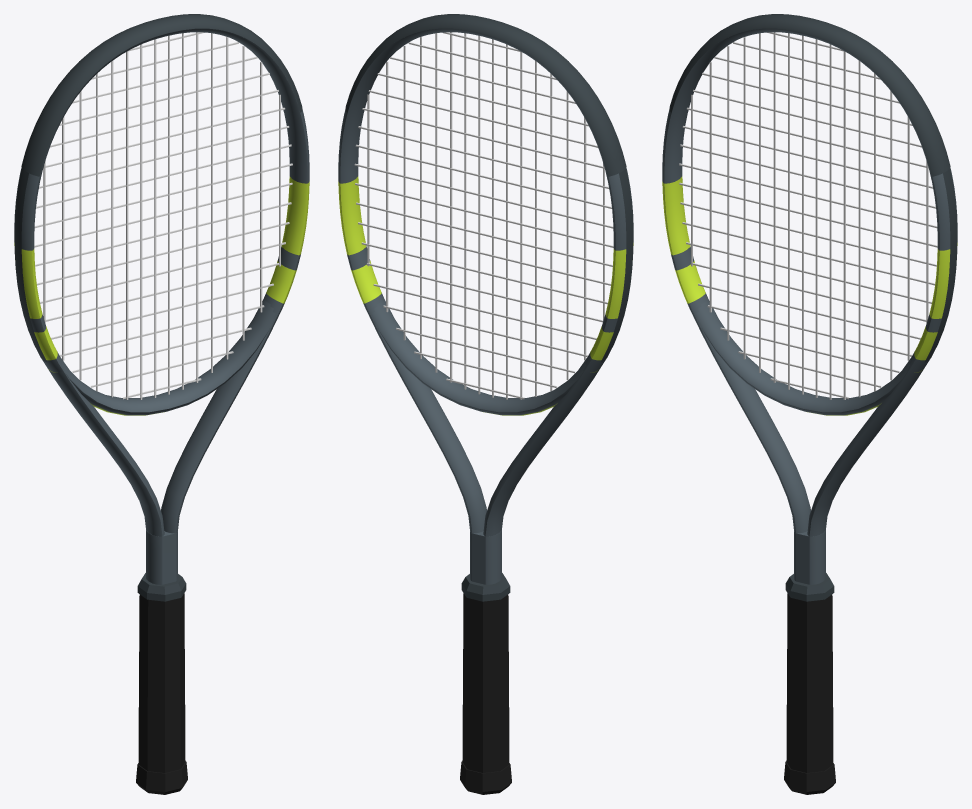
Rendered from babolat-pure-aero-super-lite-2026.glb.
The picture shows the model from 3 angles, left to right: view 1: azimuth 30°, elevation 25°; view 2: azimuth 150°, elevation 25°; view 3: azimuth 330°, elevation 25°; orthographic projection.
Visible parts, largest first — view 1: frame, strings_mains, strings_crosses, grip, bumper, grommets, butt_cap, collar; view 2: frame, strings_mains, strings_crosses, grip, bumper, grommets, butt_cap, collar; view 3: frame, strings_mains, strings_crosses, grip, bumper, grommets, butt_cap, collar.
Part boxes in pixels (left/top/right/bottom): frame: left=14, top=28, right=309, bottom=584; strings_mains: left=43, top=32, right=280, bottom=399; strings_crosses: left=34, top=32, right=292, bottom=399; grip: left=138, top=593, right=185, bottom=772; bumper: left=21, top=14, right=302, bottom=176; grommets: left=14, top=168, right=47, bottom=362; butt_cap: left=136, top=761, right=187, bottom=794; collar: left=137, top=573, right=186, bottom=601; frame: left=338, top=28, right=633, bottom=584; strings_mains: left=367, top=32, right=604, bottom=399; strings_crosses: left=354, top=32, right=613, bottom=399; grip: left=462, top=593, right=509, bottom=772; bumper: left=345, top=14, right=626, bottom=176; grommets: left=600, top=168, right=633, bottom=362; butt_cap: left=460, top=761, right=511, bottom=794; collar: left=461, top=573, right=510, bottom=601; frame: left=662, top=28, right=957, bottom=584; strings_mains: left=691, top=32, right=928, bottom=399; strings_crosses: left=679, top=32, right=937, bottom=399; grip: left=786, top=593, right=833, bottom=772; bumper: left=669, top=14, right=950, bottom=176; grommets: left=924, top=168, right=957, bottom=362; butt_cap: left=784, top=761, right=835, bottom=794; collar: left=785, top=573, right=834, bottom=601.
Size of the model in its own units: 0.2718 by 0.6861 by 0.0396.
